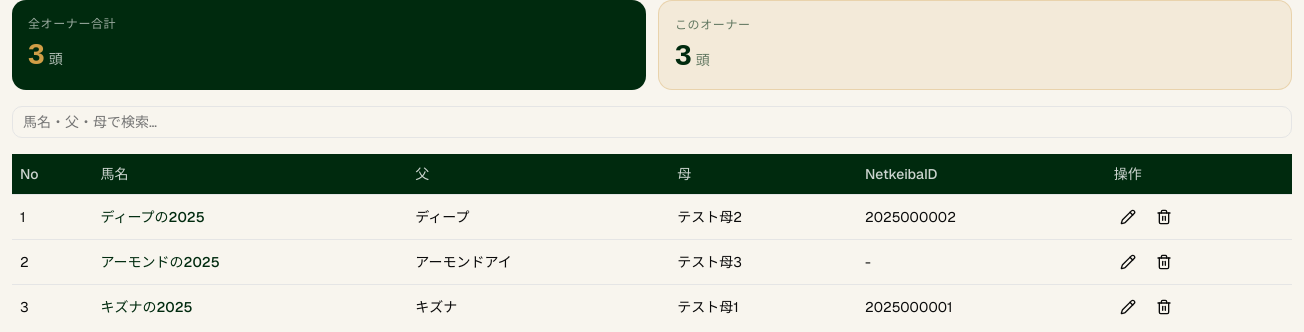
Test case: HorseTable › フリーワード検索で絞り込まれる
Type "キズナ" into the field named "フリーワード検索".
click(652, 122); type("キズナ")  # box [12, 106, 1292, 138]
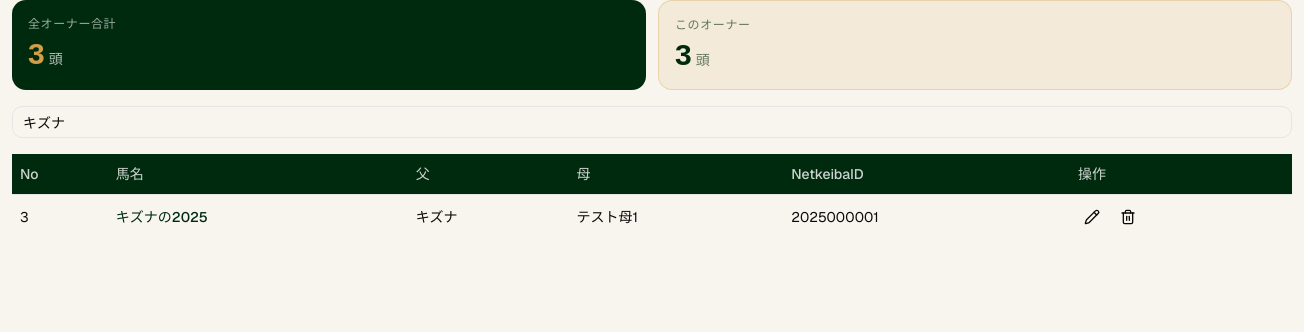
Check: the text "キズナの2025" is shown, box [108, 194, 408, 238]
Check: the text "ディープの2025" is gone
Check: the text "アーモンドの2025" is gone
